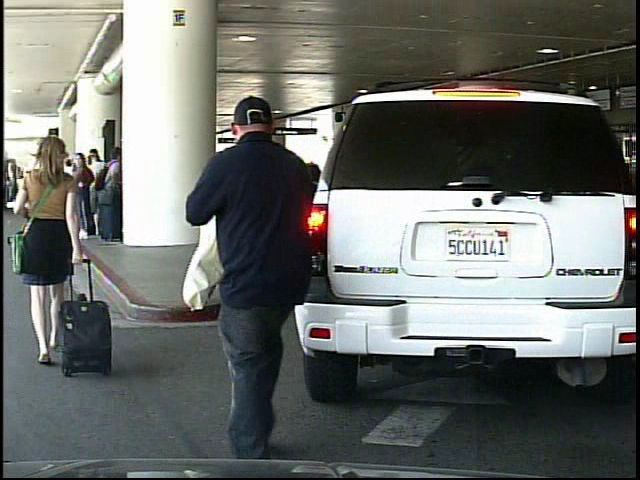person: (190, 92, 351, 462), (5, 127, 94, 386)
